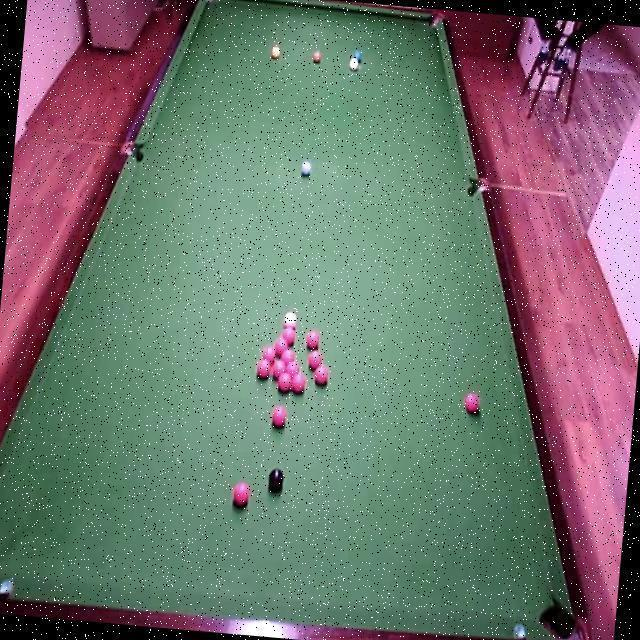Ball: (270, 405, 290, 429), (231, 483, 250, 506), (267, 468, 284, 492), (314, 363, 331, 385), (281, 311, 299, 331), (464, 392, 482, 412), (307, 348, 323, 370), (291, 371, 306, 394), (276, 371, 293, 391), (305, 328, 321, 349), (255, 359, 270, 379), (273, 335, 288, 355), (272, 358, 286, 378), (280, 328, 296, 344), (262, 344, 275, 363), (281, 348, 295, 365), (286, 361, 300, 378), (310, 49, 323, 65), (300, 160, 312, 177), (351, 48, 364, 63), (347, 58, 359, 72), (270, 45, 281, 60)
